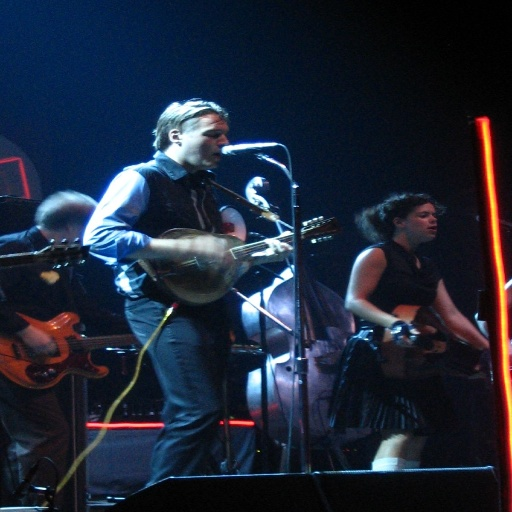hand: (189, 232, 230, 269), (21, 325, 58, 359), (248, 237, 292, 264), (390, 321, 419, 351), (472, 348, 494, 372)
